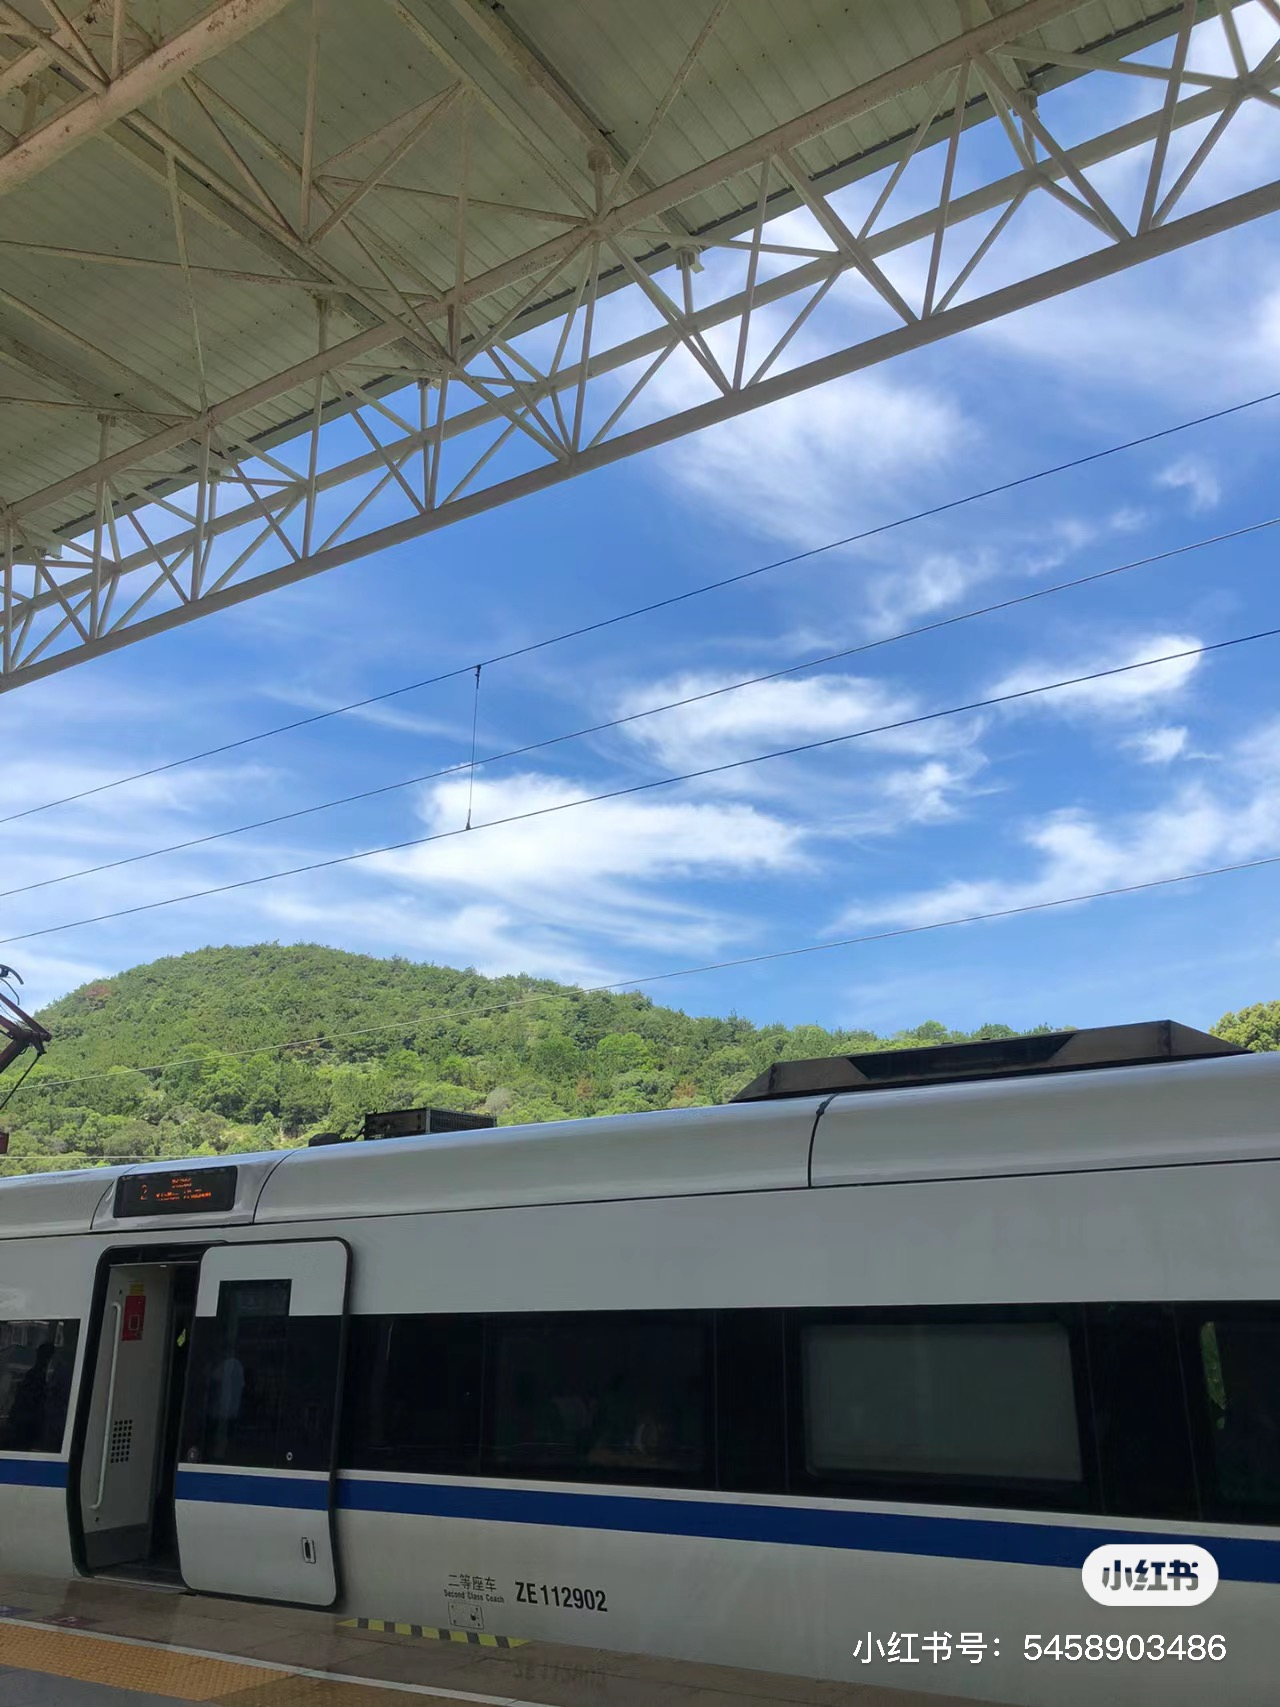Cirrus: (701, 238, 1280, 565), (406, 741, 826, 964), (631, 634, 996, 847)
